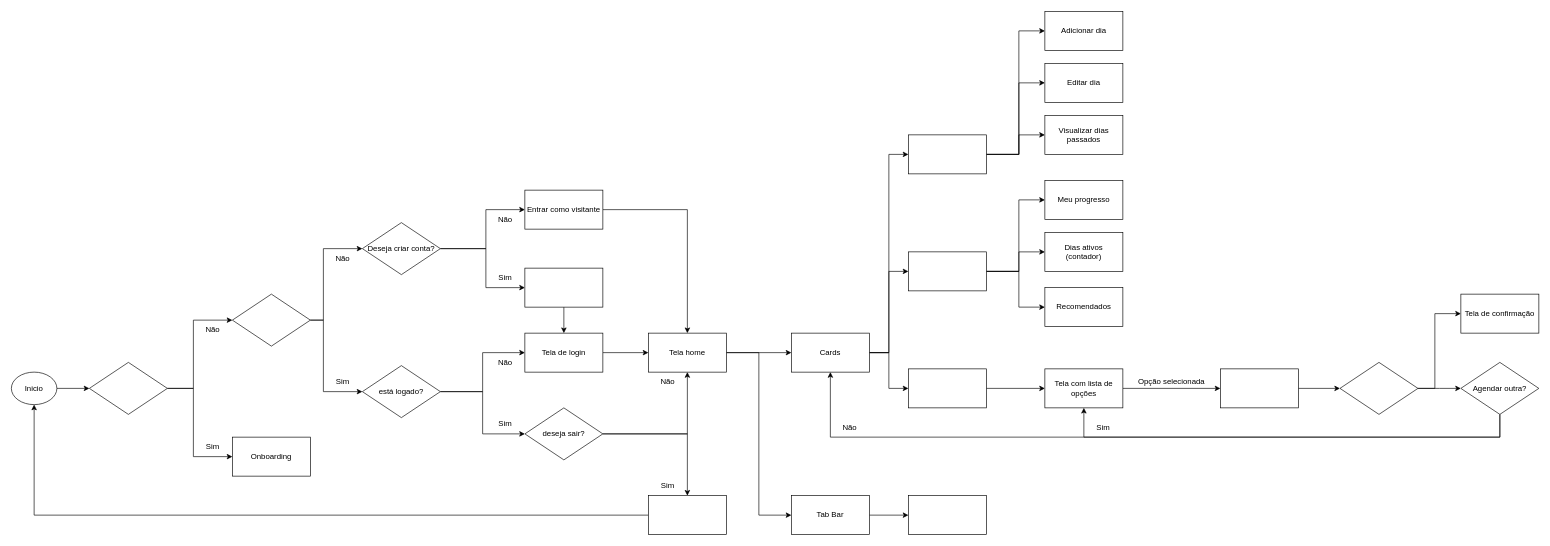
The diagram is 1550 pixels wide and 546 high, and some of its shapes have lost their labels. Each missing label, with the centre of its shape:
agendou?: point (1378, 388)
Atendimento com Estagiarios: point (947, 388)
Diário de emoções: point (947, 154)
Minhas métricas: point (947, 271)
Primeira vez no aplicativo?: point (128, 388)
Sair: point (687, 515)
SOS: point (947, 515)
Tela de agendamento e detalhes do estagiário: point (1259, 388)
Tela de registro: point (563, 287)
usuário possui conta?: point (271, 319)
